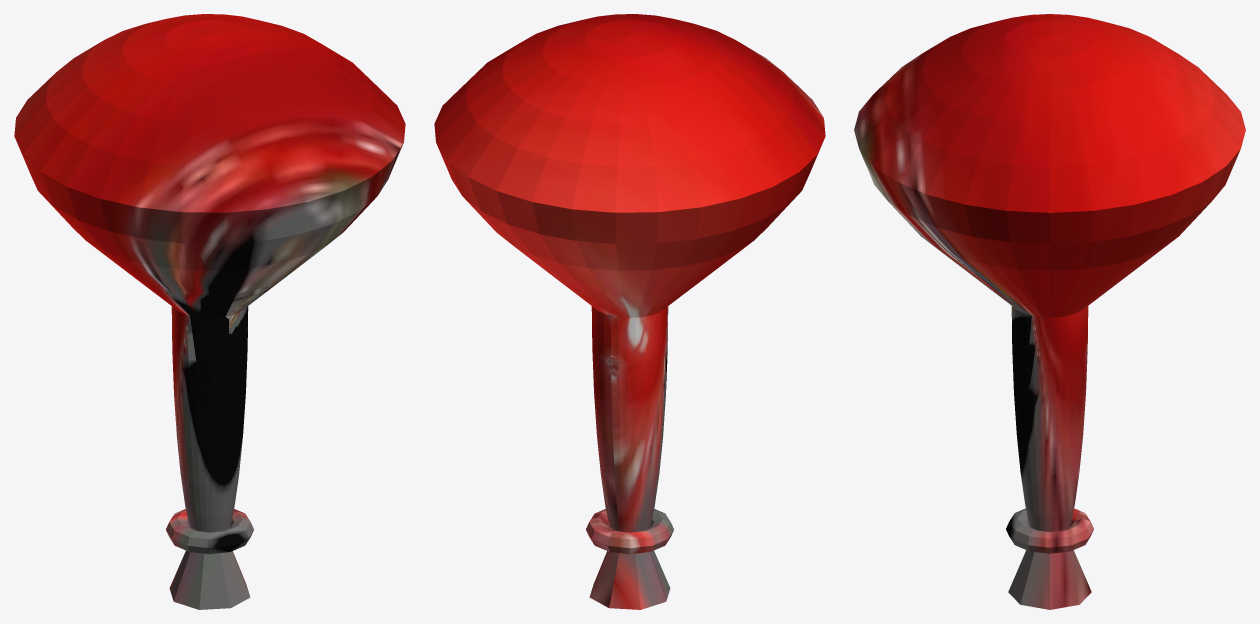
Rendered from bloon_red.glb.
The picture shows the model from 3 angles, left to right: view 1: azimuth 30°, elevation 25°; view 2: azimuth 150°, elevation 25°; view 3: azimuth 270°, elevation 25°; orthographic projection.
Visible parts, largest first — view 1: bloon_red; view 2: bloon_red; view 3: bloon_red.
Part boxes in pixels (x1,y1,x2,y2): bloon_red: (14,14,405,609); bloon_red: (434,14,825,609); bloon_red: (854,14,1245,609).
Bounding box in the file's own units: 0.7965 × 1.25 × 0.7965.
1 material, 1 textured.
